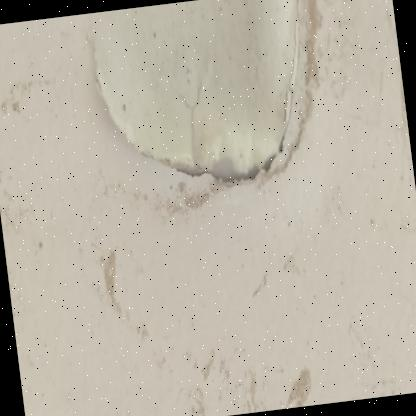Crack: (34, 0, 377, 265)
